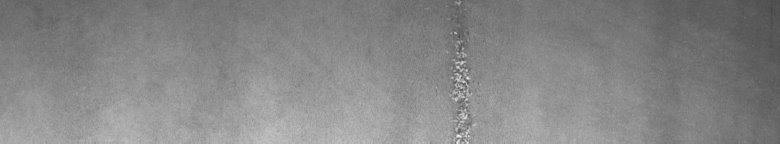hc: (444, 16, 481, 136)
